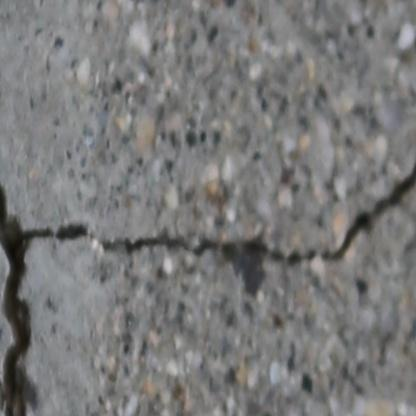Cracks: (97, 134, 416, 303), (0, 0, 92, 416)
